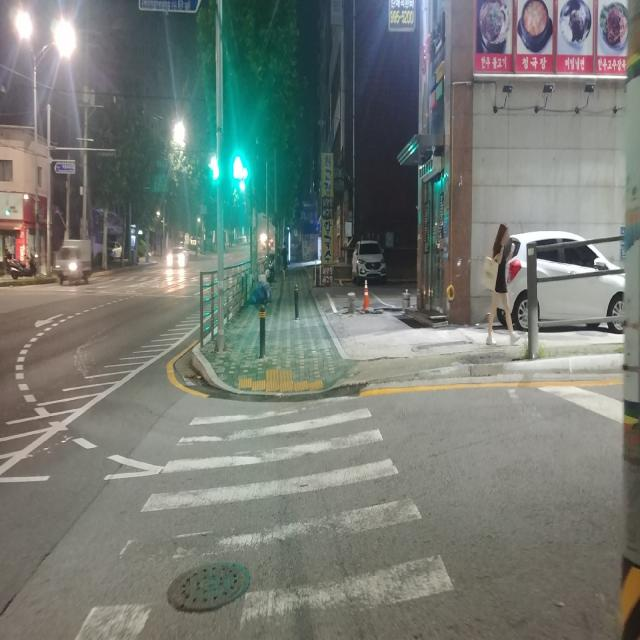횡단보도: (76, 396, 453, 640)
